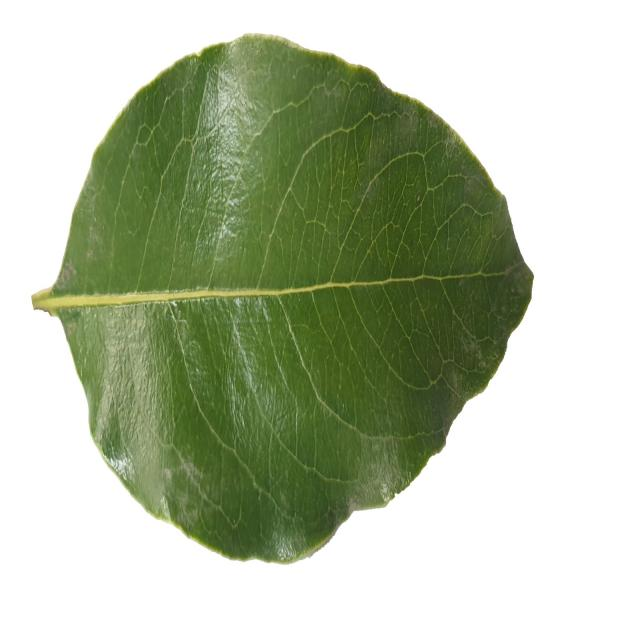Medicinal-Sandalwood: (30, 31, 535, 571)
